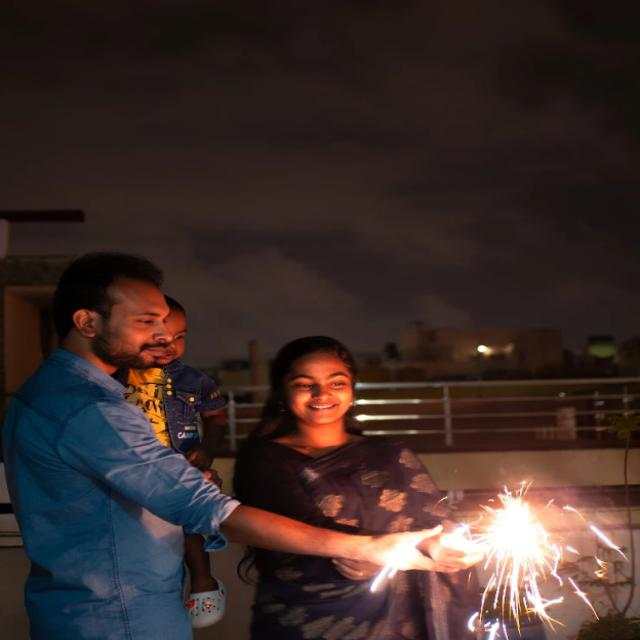fire: (440, 492, 563, 566)
